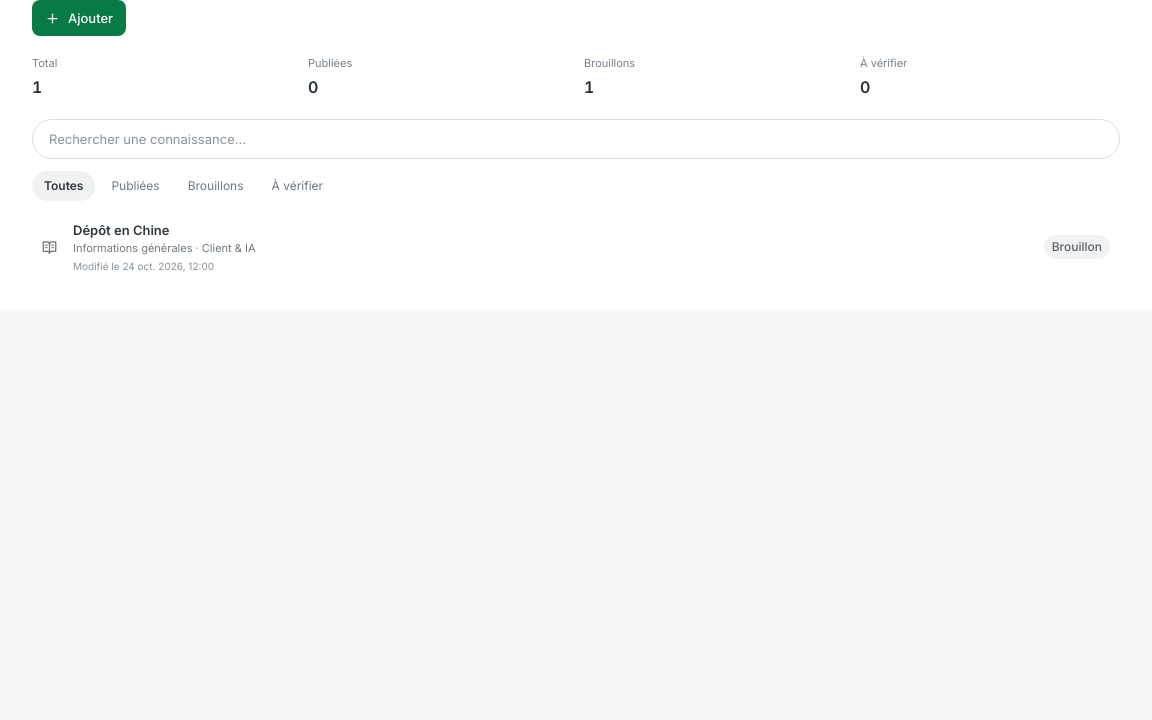
Scenario: does not offer publication without the publication permission
The width and height of the screenshot is (1152, 720).
What coordinates should you click on to do the following:
click the button "Dépôt en Chine"
I would click on:
 (121, 230)
Its box is [32,208,1120,286].
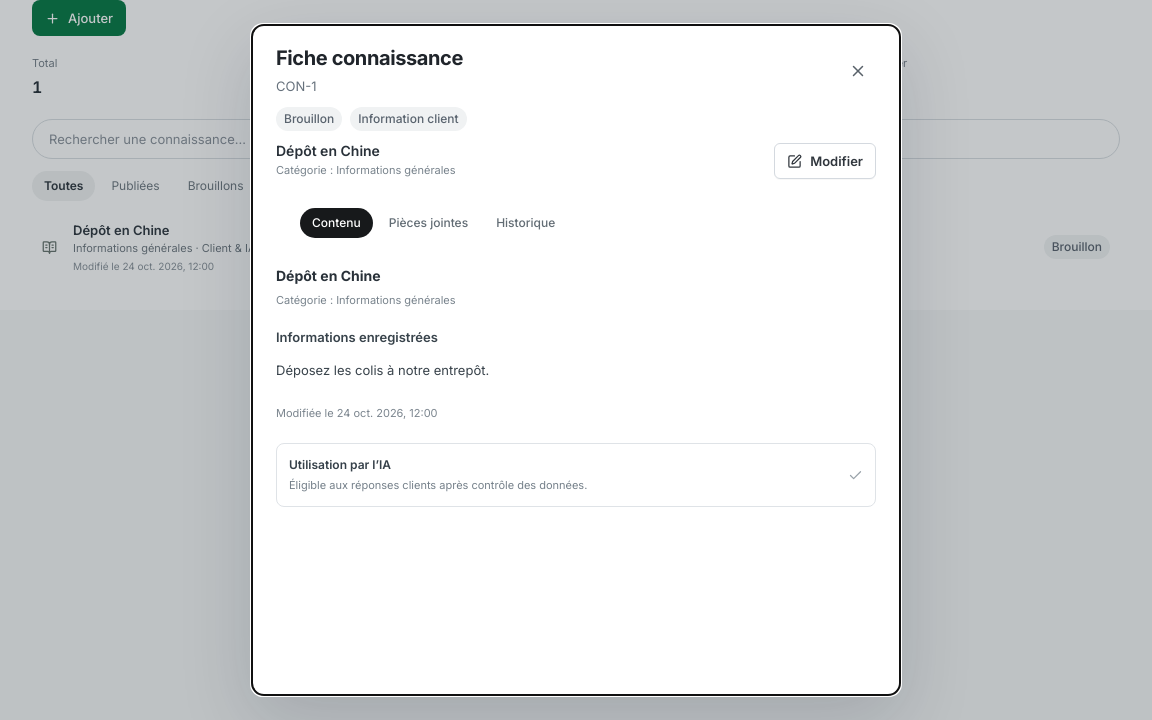
Expected: the dialog "Fiche connaissance" is shown
